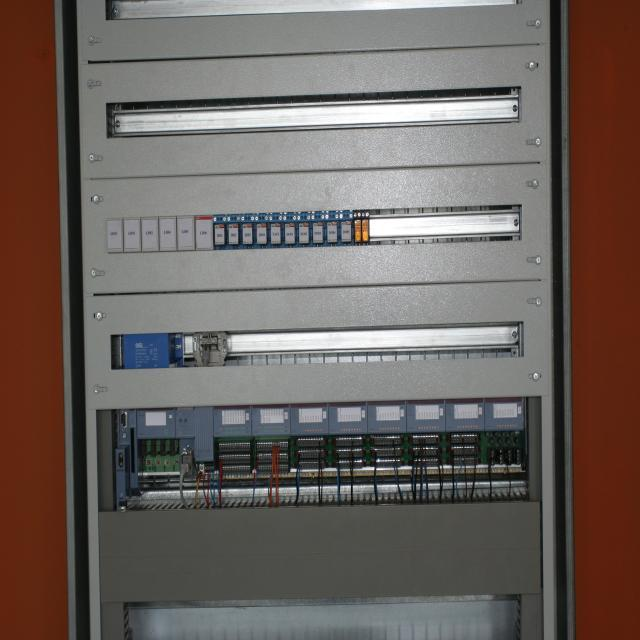Dimmer: (123, 217, 141, 252), (159, 216, 177, 251), (177, 215, 195, 250), (195, 215, 213, 250), (141, 217, 159, 251), (106, 217, 123, 252), (339, 210, 354, 245), (241, 213, 255, 249), (283, 212, 297, 248), (297, 211, 311, 247), (325, 210, 339, 246), (213, 215, 227, 250), (227, 214, 241, 249), (255, 213, 269, 248), (269, 213, 283, 248), (311, 211, 325, 246)
SPS_System_Steuerungskomponente: (175, 406, 213, 461), (406, 399, 445, 433), (445, 398, 484, 432), (485, 397, 524, 431), (290, 403, 329, 436), (329, 402, 367, 435), (368, 401, 406, 434), (137, 407, 175, 439), (214, 405, 252, 437), (252, 404, 290, 436)
